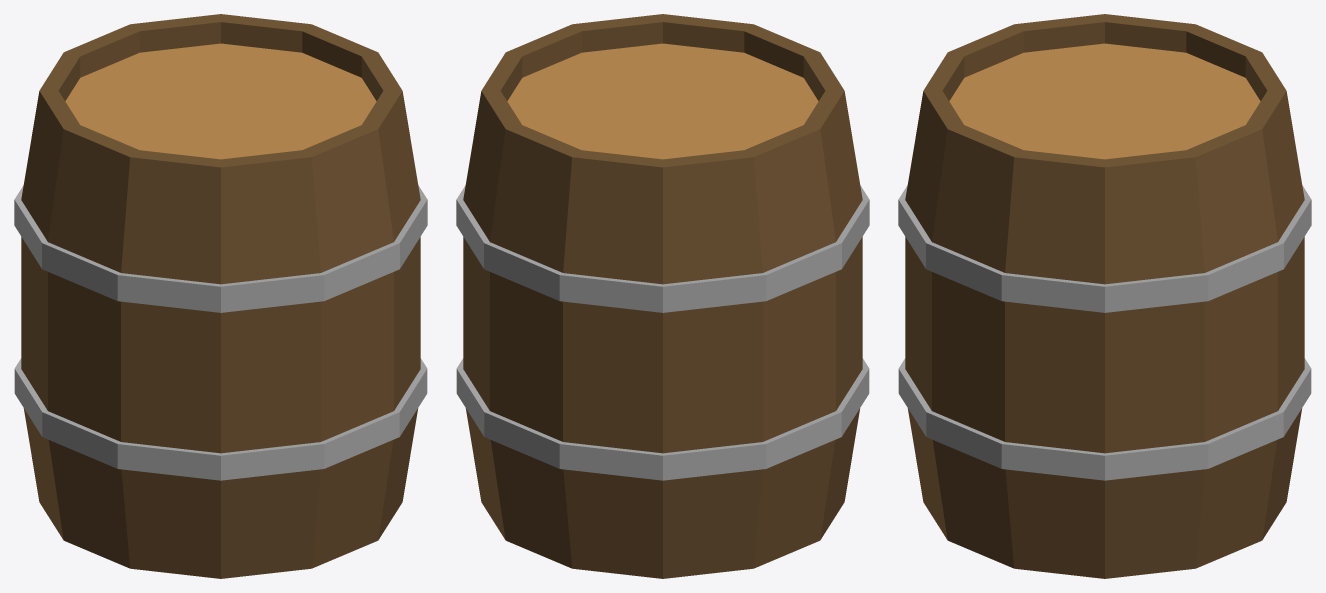
The model's file is Barrel.fbx.
3 views of the same model, side by side, from view 1: azimuth 30°, elevation 25°; view 2: azimuth 150°, elevation 25°; view 3: azimuth 270°, elevation 25° (orthographic).
Parts seen in each view (by area): view 1: Cylinder; view 2: Cylinder; view 3: Cylinder.
Part boxes in pixels (bbox=[...]): Cylinder: bbox=[14, 14, 427, 578]; Cylinder: bbox=[456, 14, 869, 578]; Cylinder: bbox=[898, 14, 1311, 578].
Size of the model in its own units: 90.98 by 100 by 90.98.
